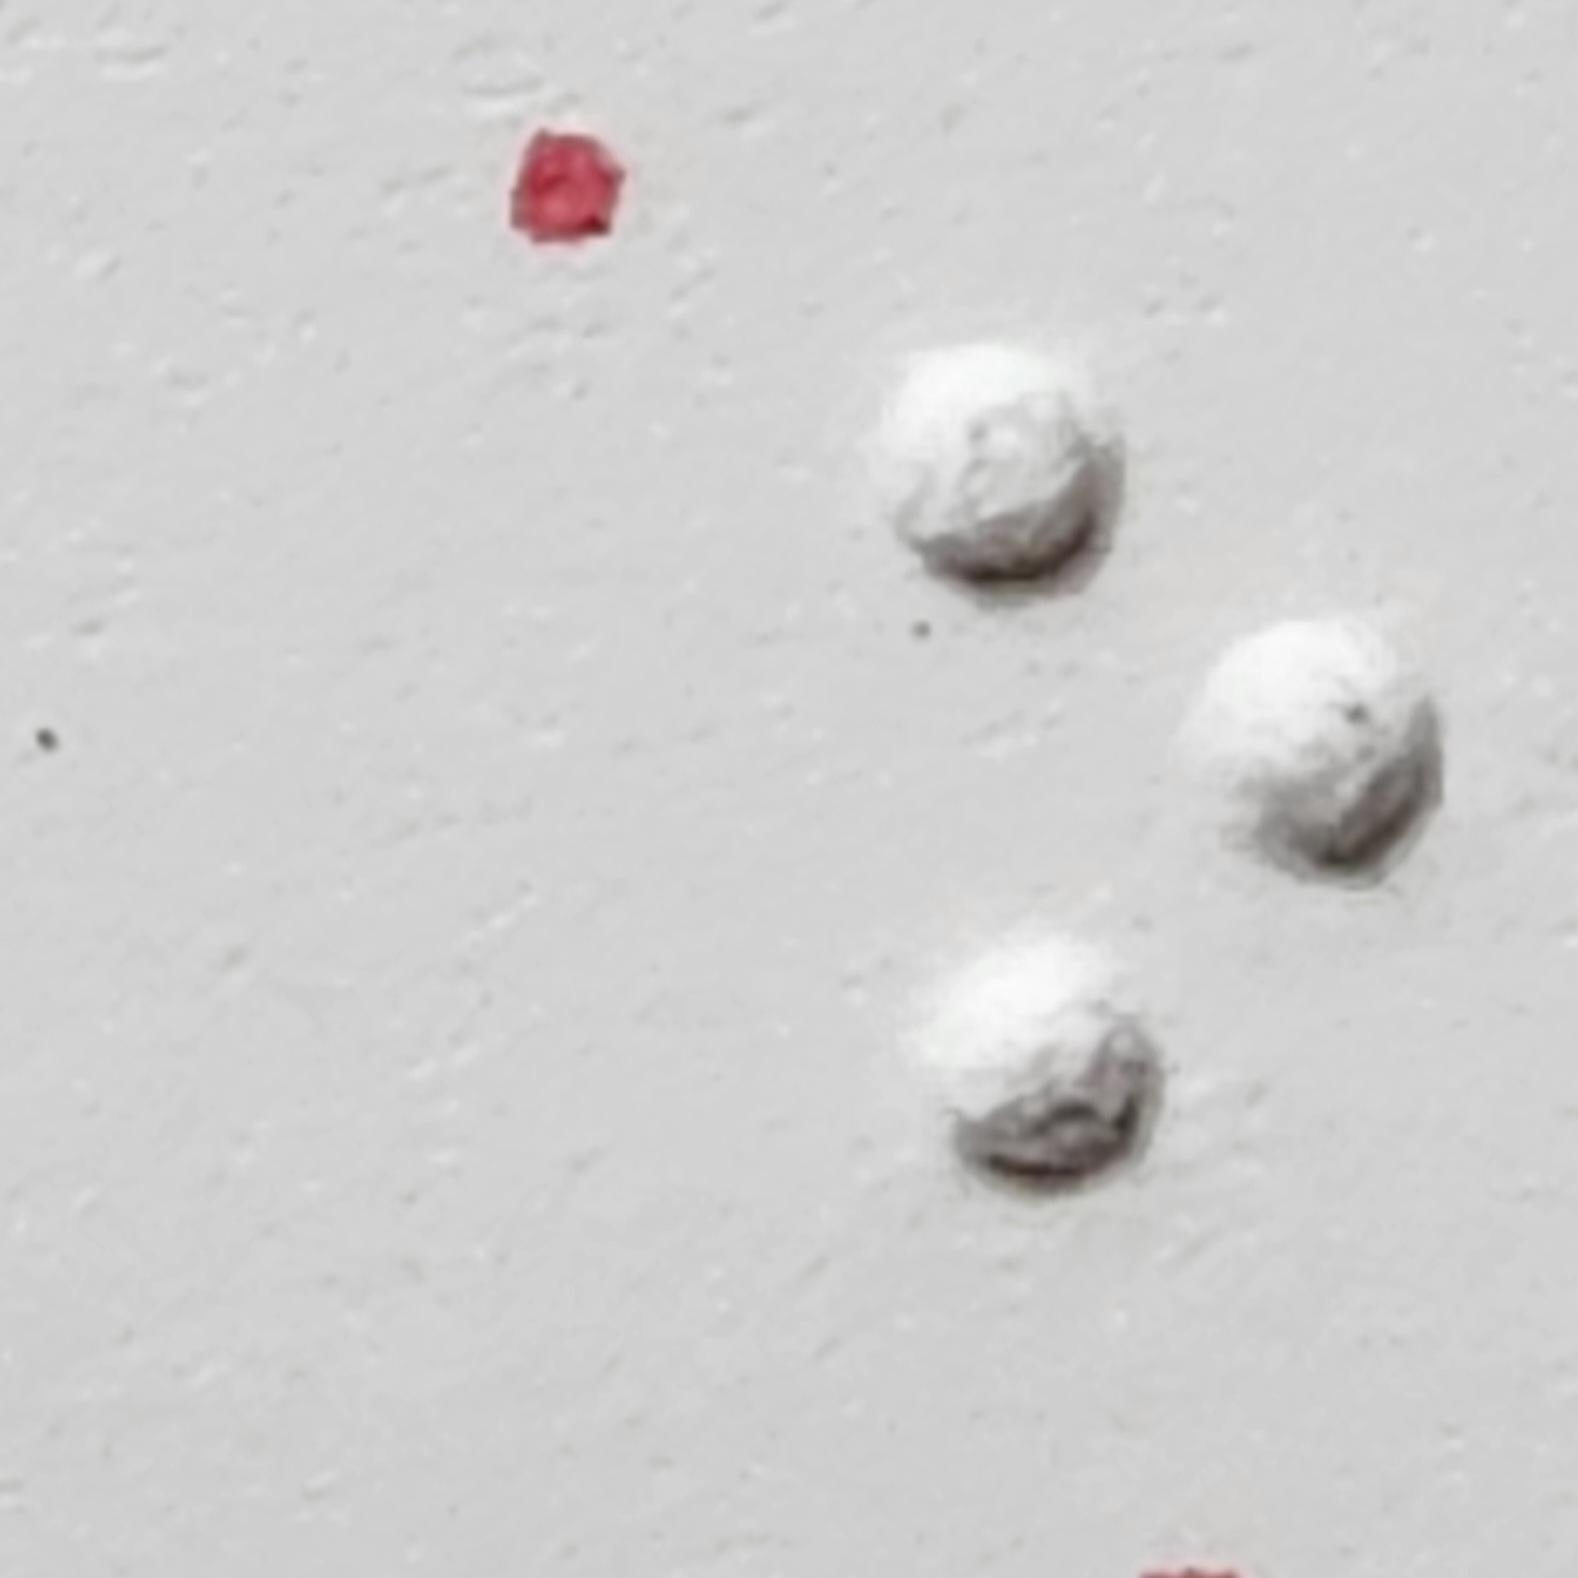letter_o: (884, 334, 1452, 1183)
